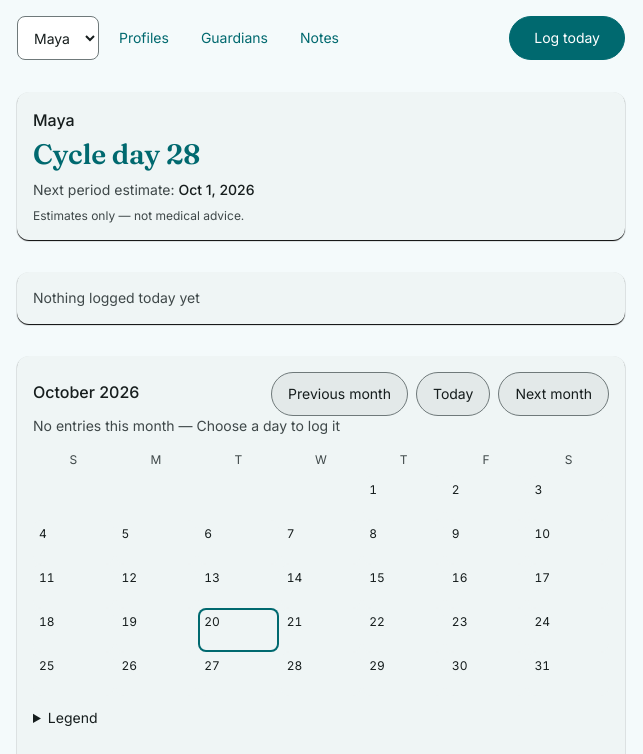
Test: TodayPage — the profile home (issue #1253) › switches profiles from the switcher and keeps the URL in step
Step 1. Select "Priya" in the dropdown named "Profile" → (58, 38), box [17,16,99,60]
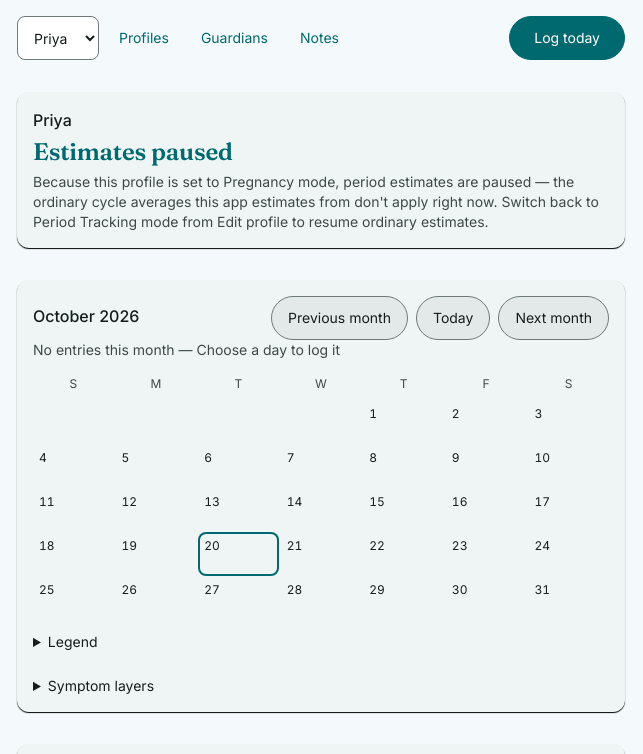
Now the heading "Priya" is shown, box [33,110,72,130]
